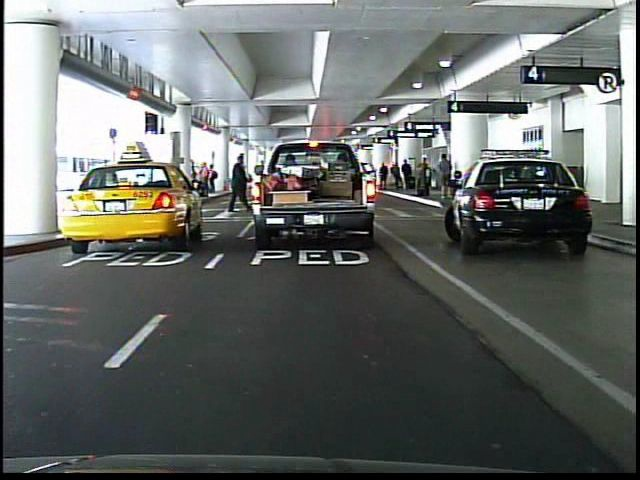person: (220, 153, 248, 214), (286, 145, 310, 203)
